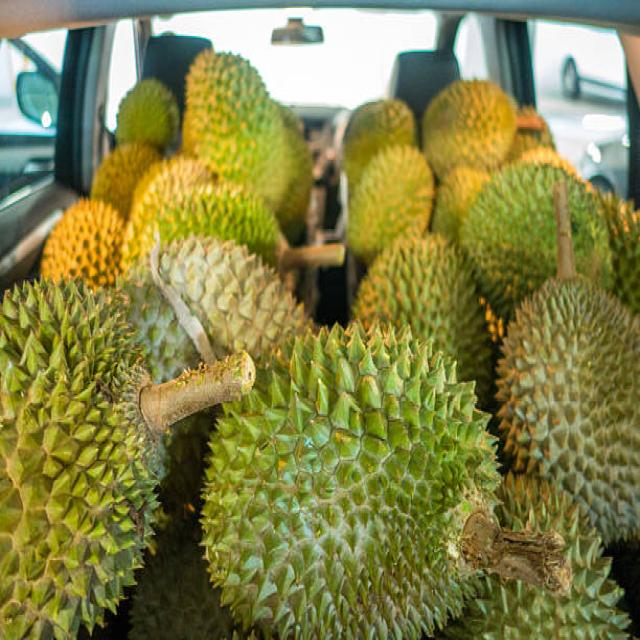immature: (202, 324, 498, 638), (0, 281, 156, 638)
mature: (498, 279, 640, 545)
